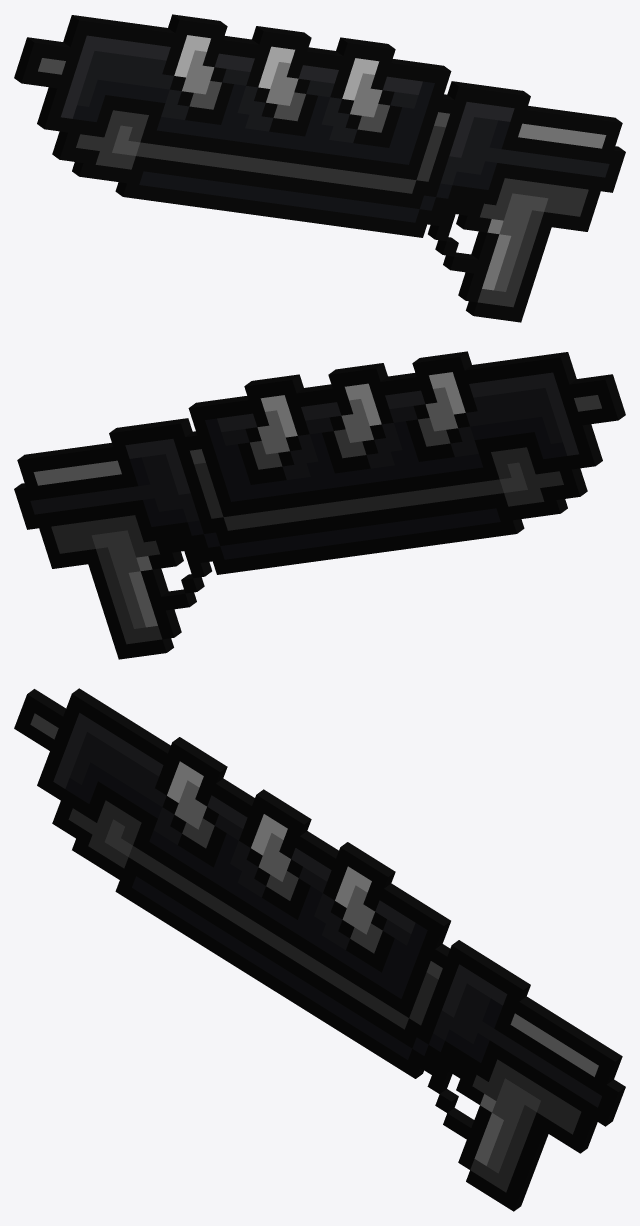
Rendered from Black Paintball Gun.glb.
The picture shows the model from 3 angles, top to bottom: view 1: azimuth 30°, elevation 25°; view 2: azimuth 150°, elevation 25°; view 3: azimuth 330°, elevation 25°; orthographic projection.
Parts seen in each view (by area): view 1: Untitled; view 2: Untitled; view 3: Untitled.
Part boxes in pixels (x1,y1,x2,y2): Untitled: (14, 14, 625, 322); Untitled: (14, 351, 625, 659); Untitled: (14, 688, 625, 1211).
Bounding box in the file's own units: 18.93 × 12.27 × 0.4.
1 material, 1 textured.
